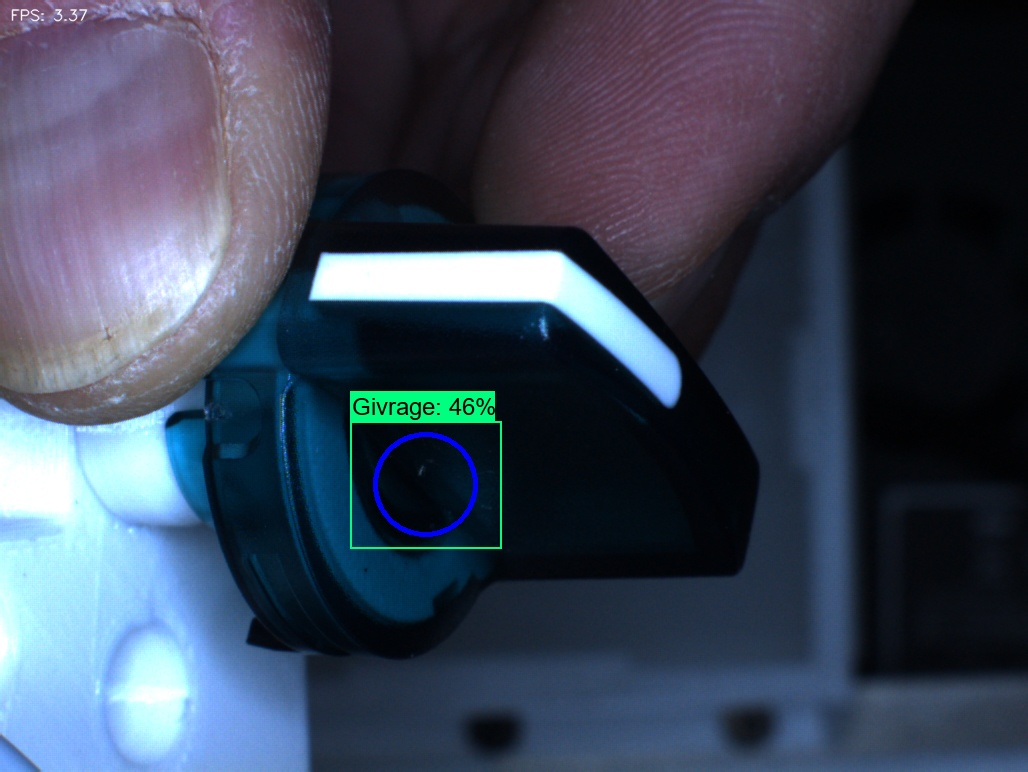PointNoir: (336, 536, 401, 602)
